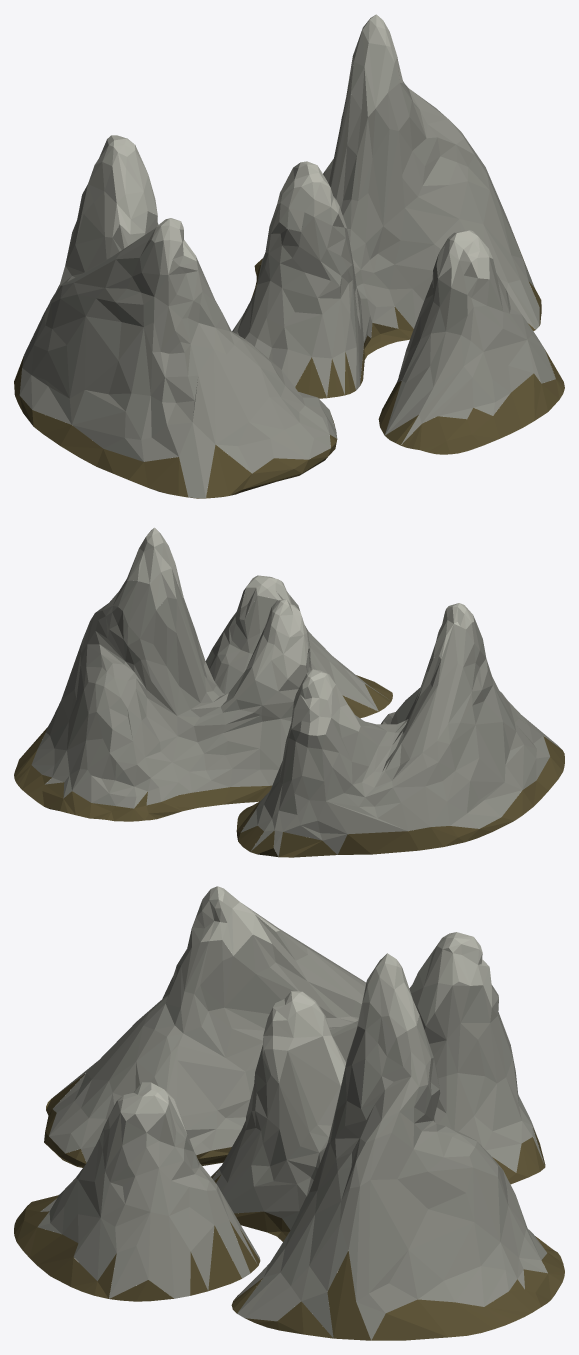
The model's file is mountains.glb.
The picture shows the model from 3 angles, top to bottom: view 1: azimuth 30°, elevation 25°; view 2: azimuth 150°, elevation 25°; view 3: azimuth 270°, elevation 25°; orthographic projection. The views are drawn at different scales.
Visible parts, largest first — view 1: Mountain_Group_1; view 2: Mountain_Group_1; view 3: Mountain_Group_1.
Part boxes in pixels (box(x1,y1,x2,y2)): Mountain_Group_1: box(14, 14, 564, 498); Mountain_Group_1: box(14, 527, 564, 857); Mountain_Group_1: box(14, 886, 564, 1340).
Bounding box in the file's own units: 4.59 × 2.49 × 3.84.
